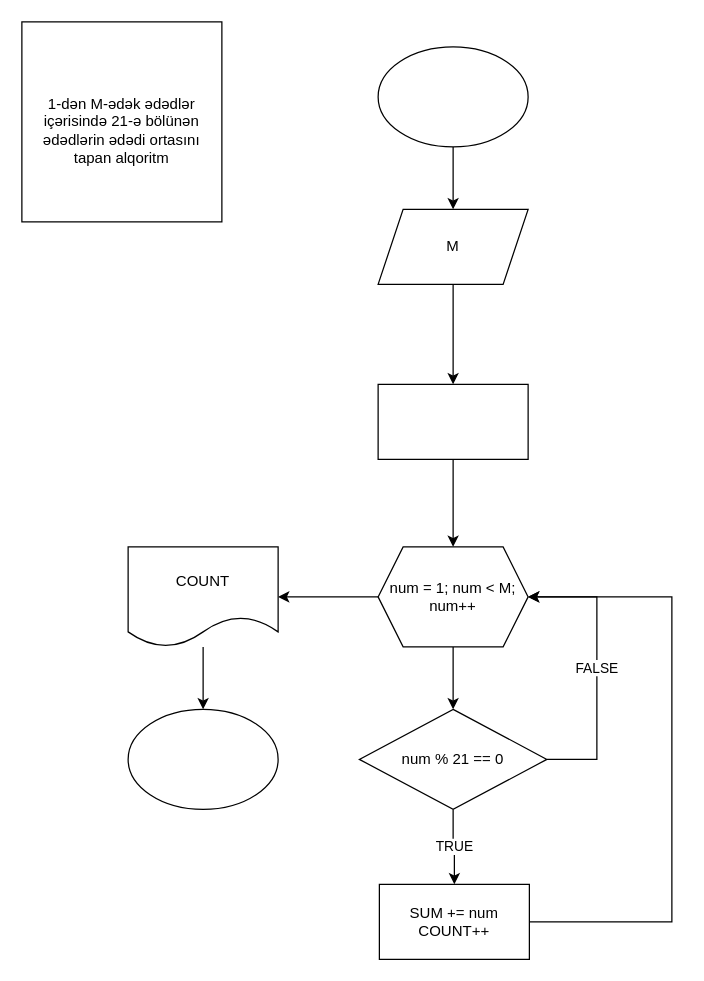
The diagram is 704 pixels wide and 981 high, and some of its shapes have lost their labels. The shapes that lost their labels are listed below. From the top down, each one's centre as x and y in pixels, then its label:
At (452,96): "START".
At (452,421): "SUM = 0 COUNT = 0".
At (202,758): "END".
